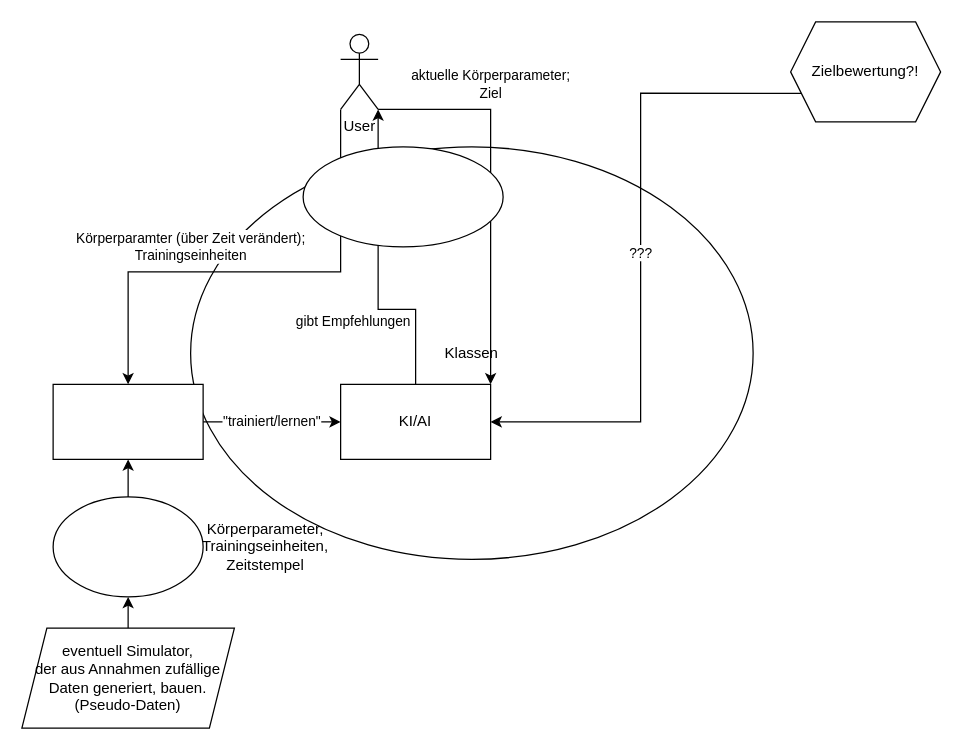
Image size: 963x750. Some labels were removed from this diagram. The box of each missing label's shape, as (x1, y1, x2, y2) in pixels:
Datenbasis (Datenbank): (52, 383, 203, 459)
externe Quelle für vorgegebene Trainingsdaten (Startdatenbasis): (52, 496, 203, 597)
GUI: (302, 146, 503, 247)
